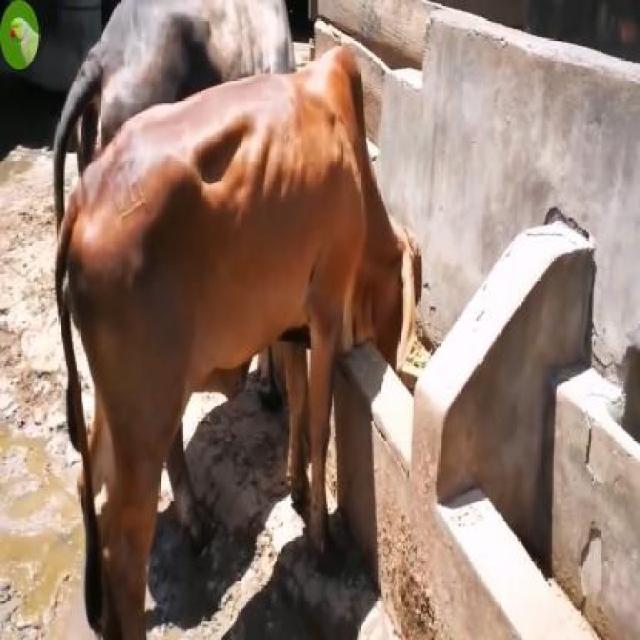Cow: (54, 46, 423, 639)
